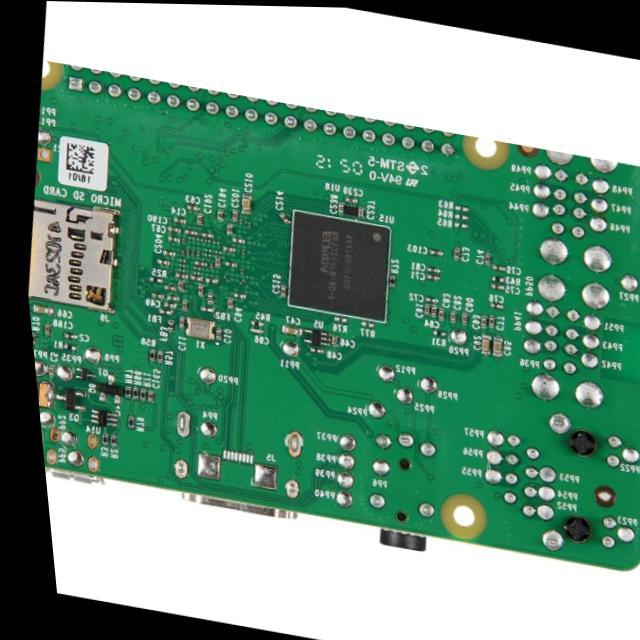Raspberry-Pi-2-B: (30, 63, 640, 570)
